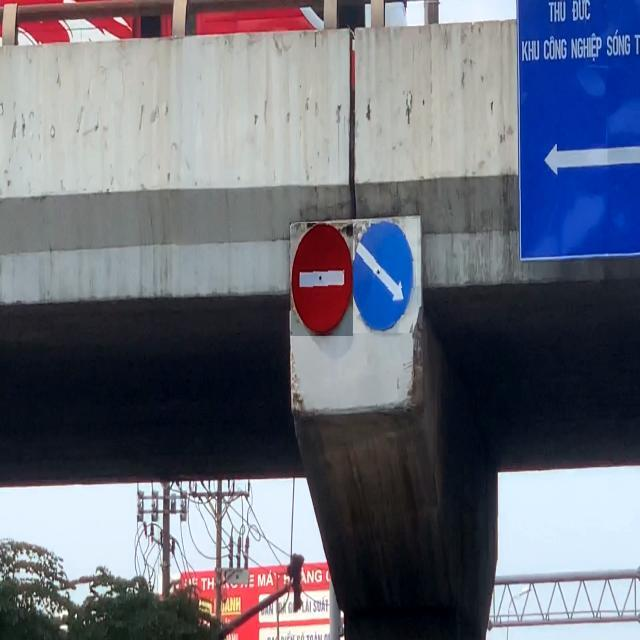P-102: (290, 223, 353, 336)
R-302a: (352, 219, 417, 333)
